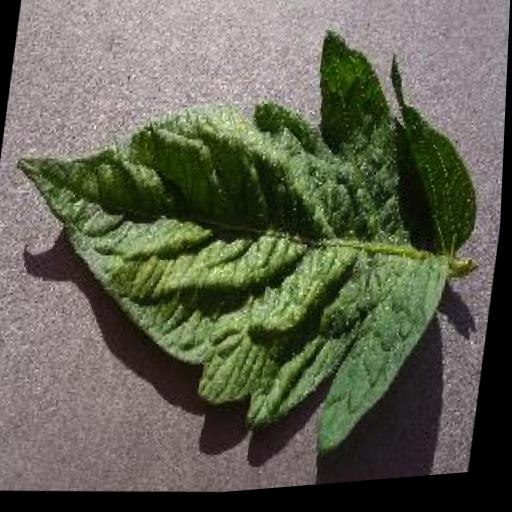Spider Mites: (0, 0, 503, 491)
